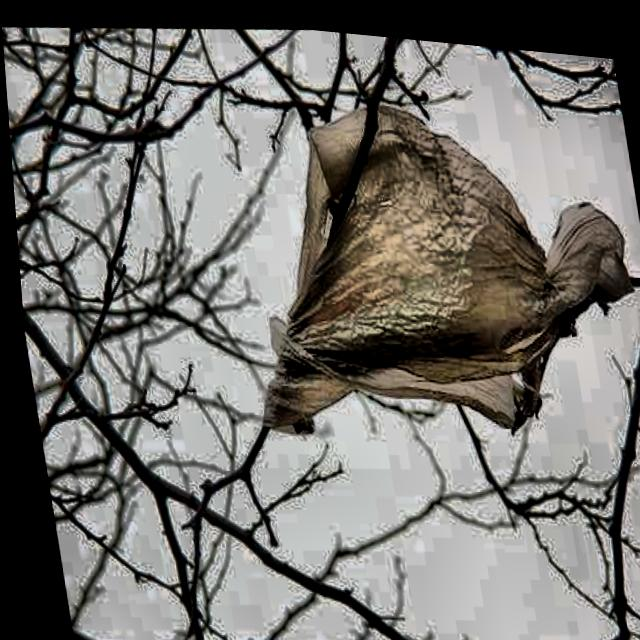Plastic: (213, 55, 640, 472)
